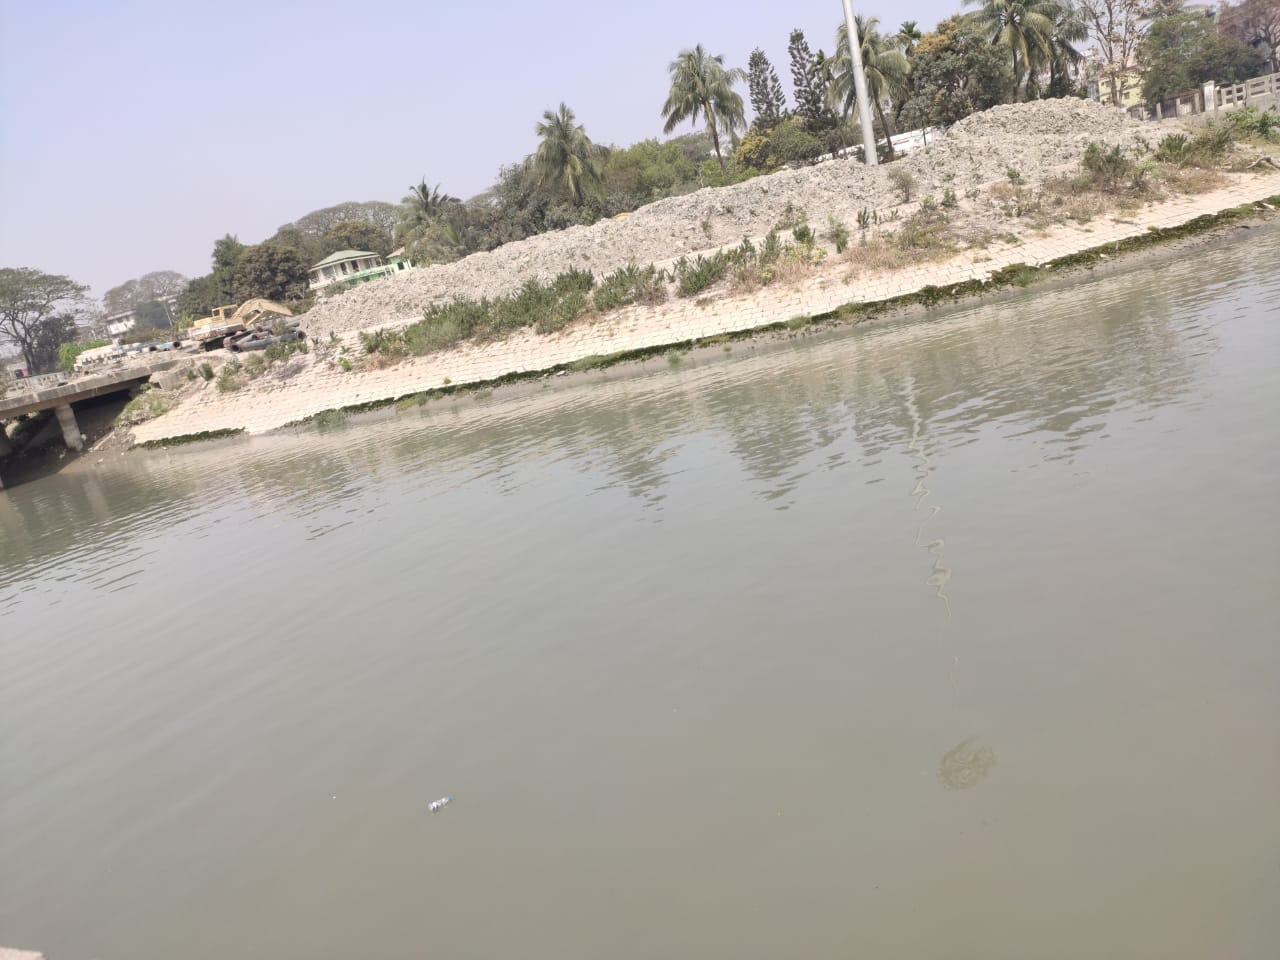Plastic Bottle: (428, 795, 453, 813)
